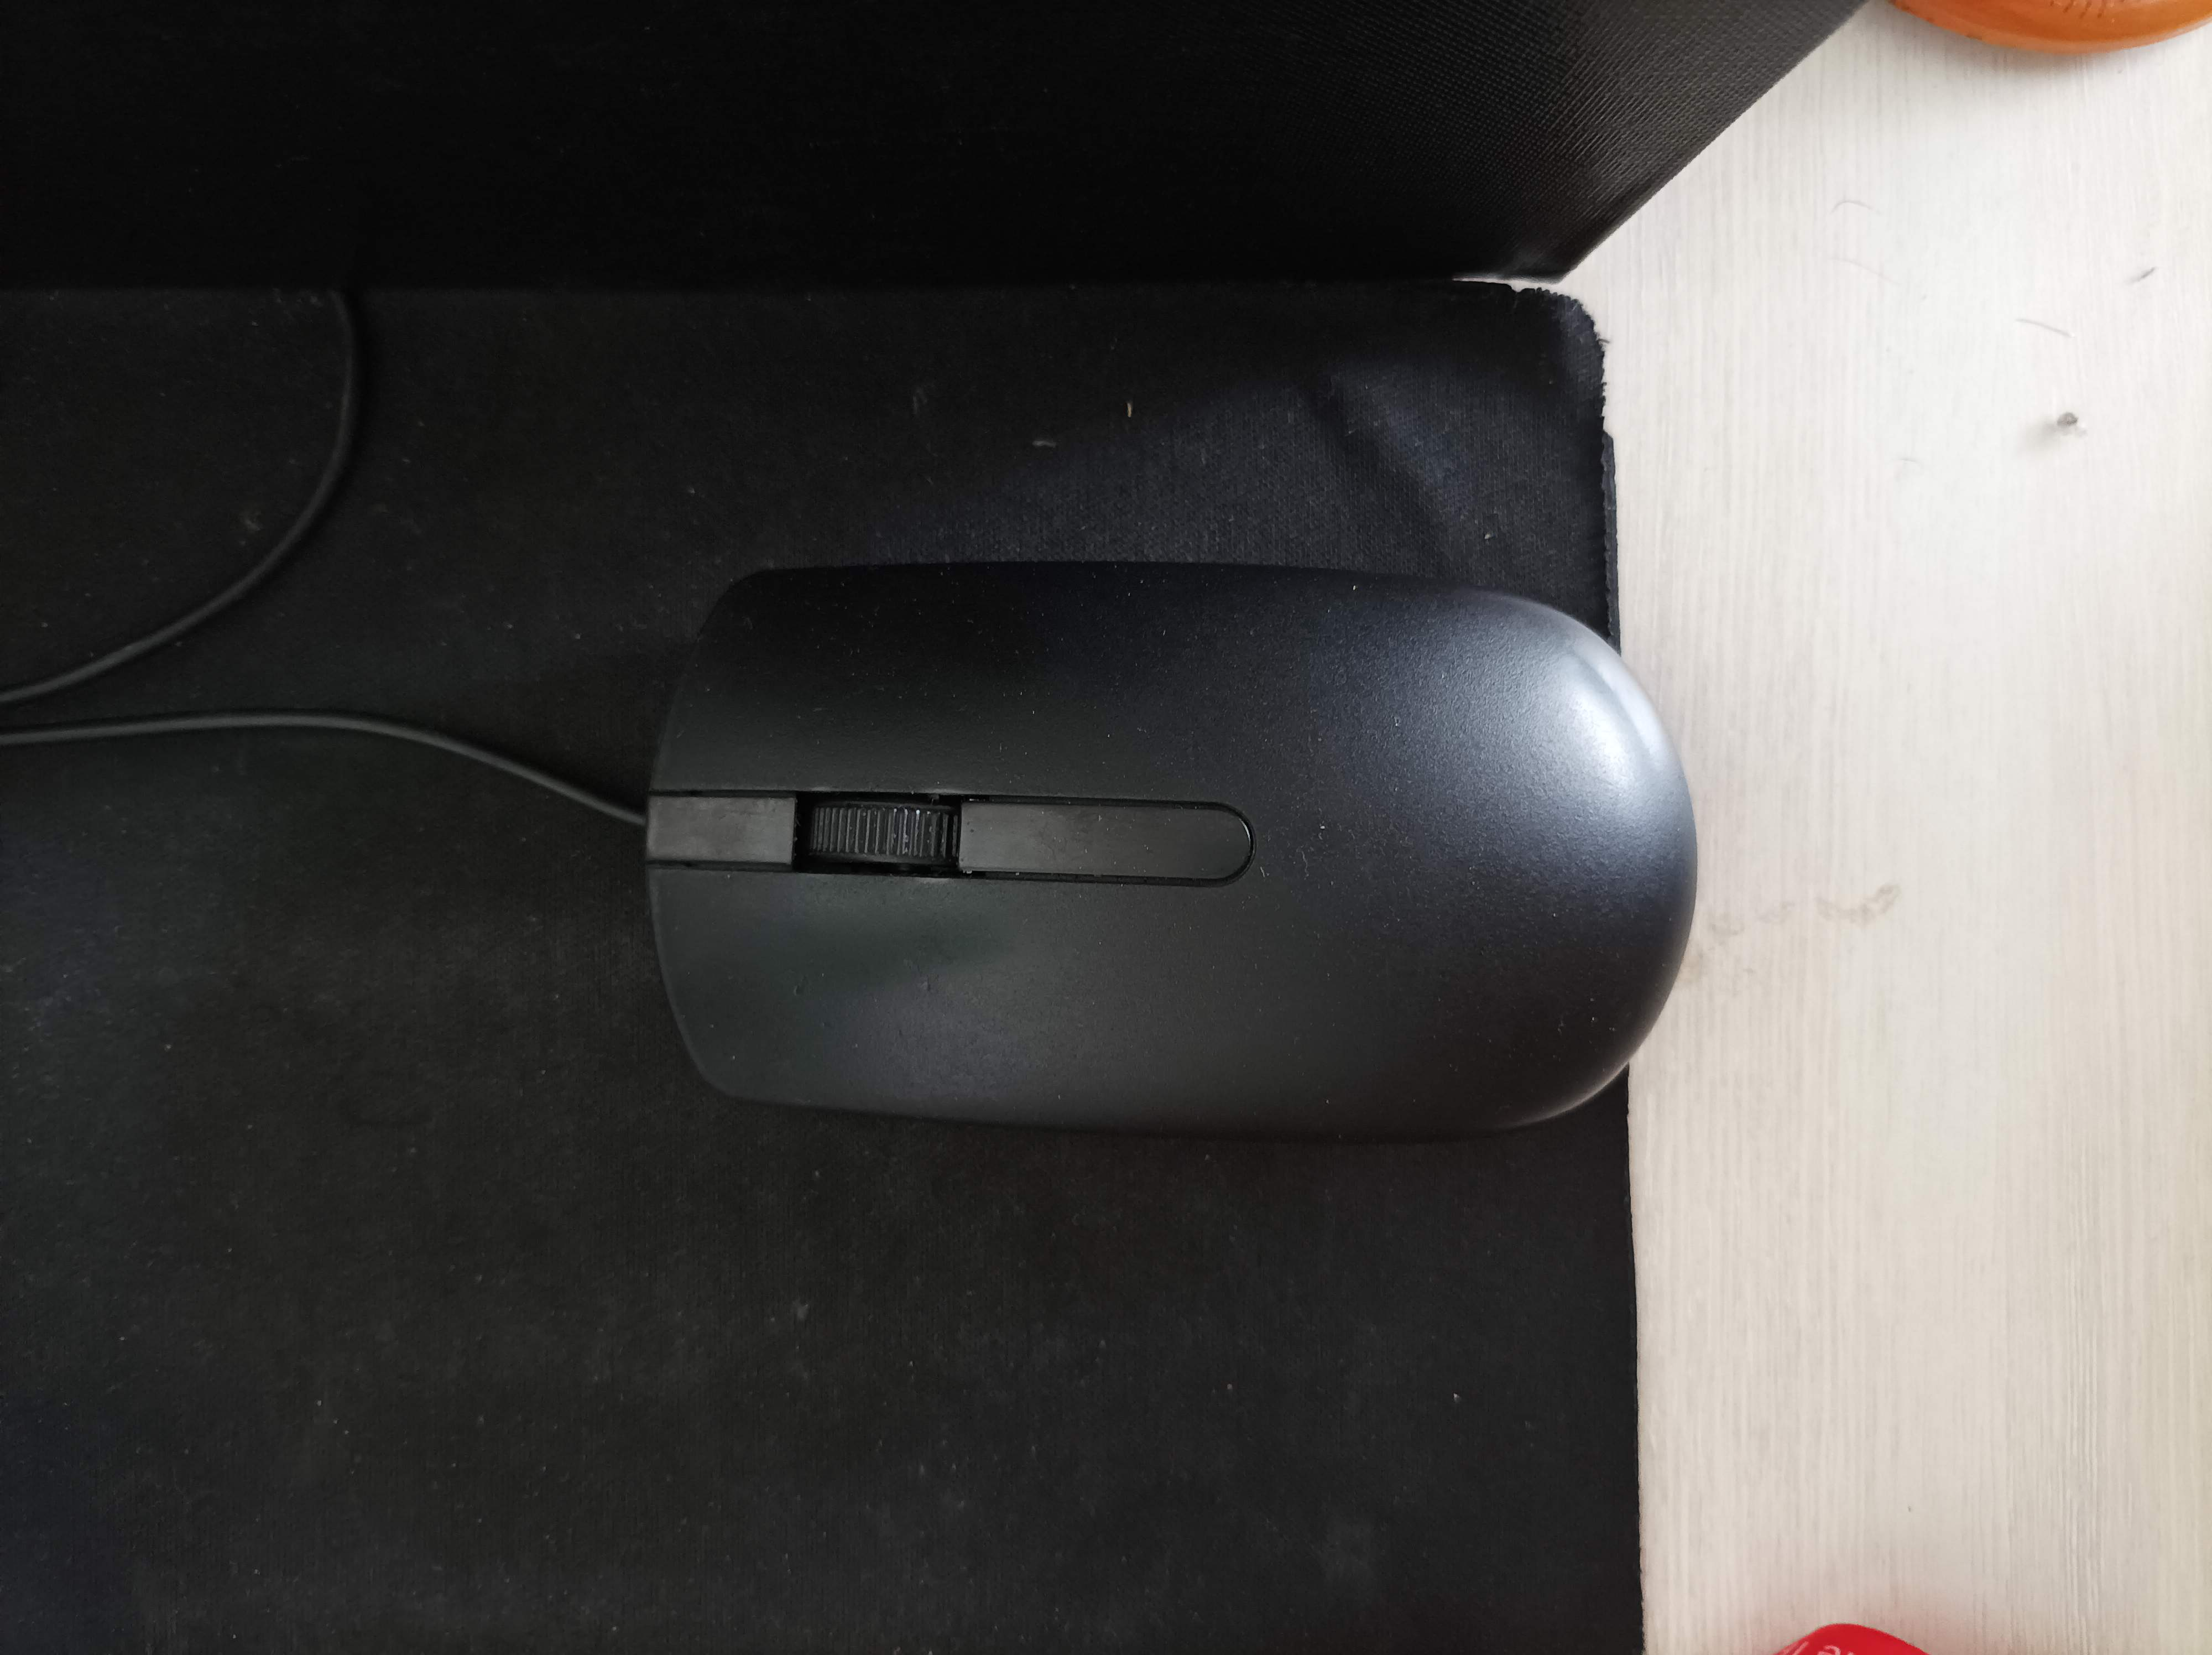mouse: (620, 539, 1715, 1163)
